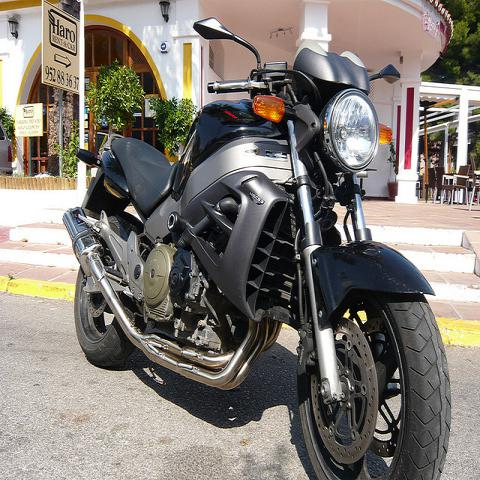motorcycle: (62, 3, 452, 472)
